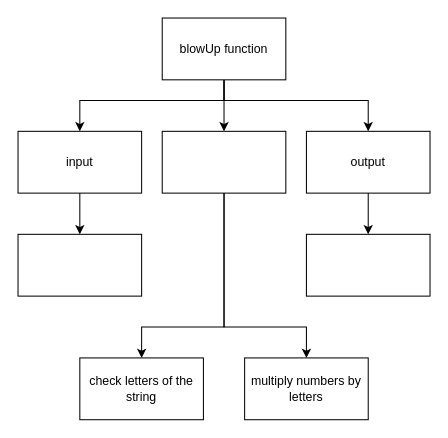
This 448x438 diagram has some shape labels left out. Each missing label, with the centre of its shape:
"newString" belongs at pixel 367 264.
"process" belongs at pixel 223 161.
"string" belongs at pixel 79 264.
